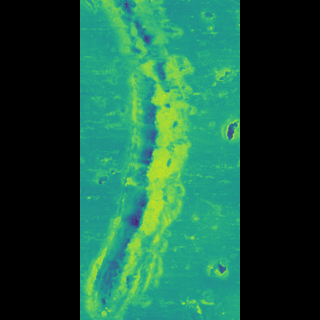Loch: (121, 0, 178, 320), (160, 290, 188, 319), (181, 63, 198, 101), (181, 249, 198, 282), (190, 115, 199, 145)
